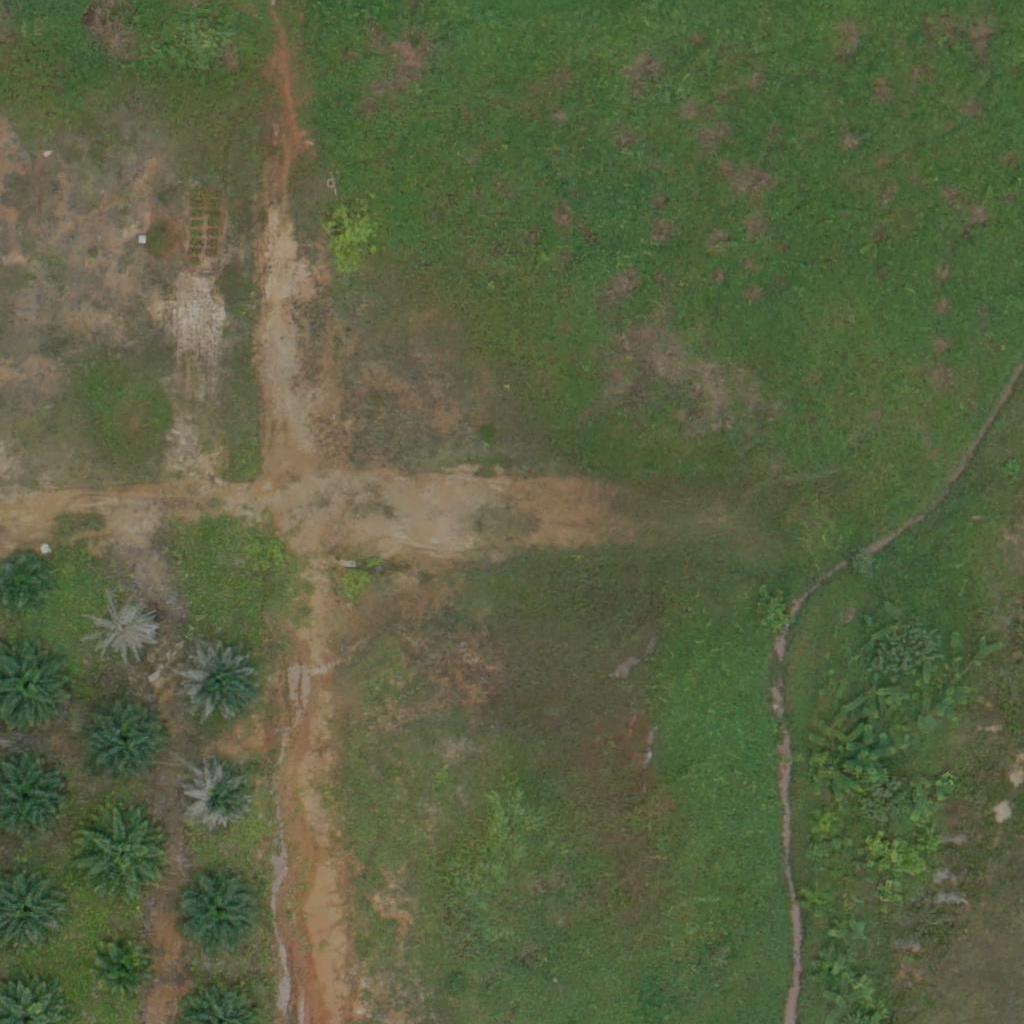Kelapa_Sawit: (77, 691, 177, 791), (77, 805, 177, 905), (173, 639, 261, 727), (175, 869, 263, 957), (84, 590, 159, 666), (185, 760, 260, 836), (92, 940, 155, 1003)
